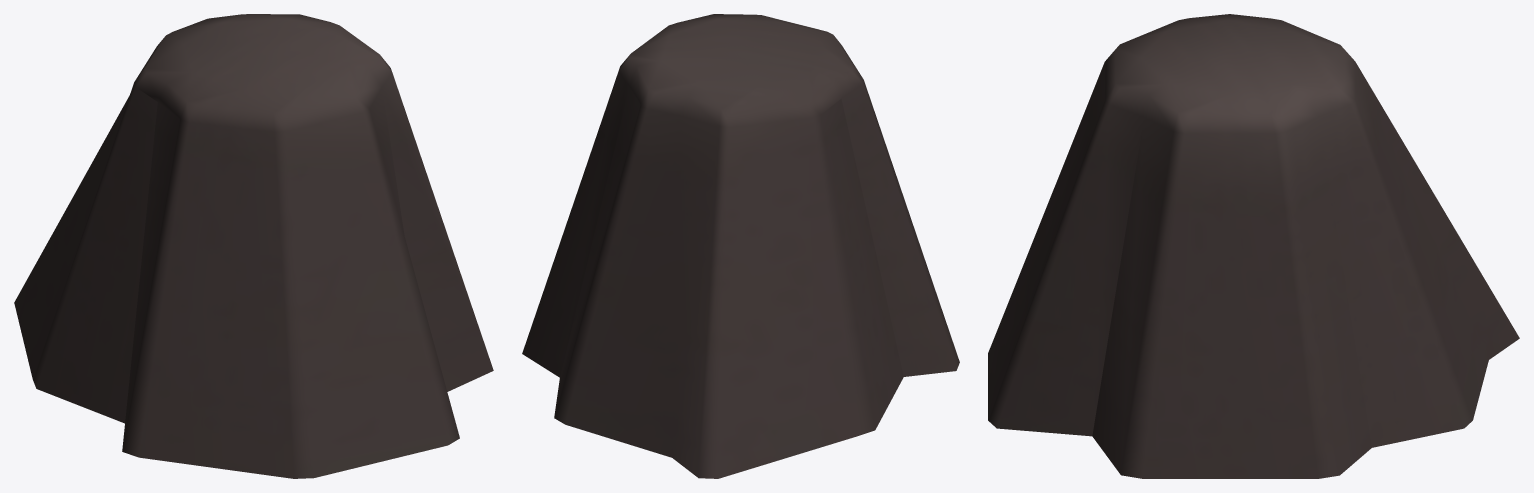
File: stone_S.fbx
3 views of the same model, side by side, from view 1: azimuth 30°, elevation 25°; view 2: azimuth 150°, elevation 25°; view 3: azimuth 270°, elevation 25° (orthographic). The views are drawn at different scales.
Parts seen in each view (by area): view 1: stone_S; view 2: stone_S; view 3: stone_S.
Boxes of the visible parts, x1,y1,x2,y2 form: stone_S: (14,14,493,478); stone_S: (522,14,959,478); stone_S: (988,14,1519,478).
Size of the model in its own units: 52.32 by 44.76 by 63.7.
